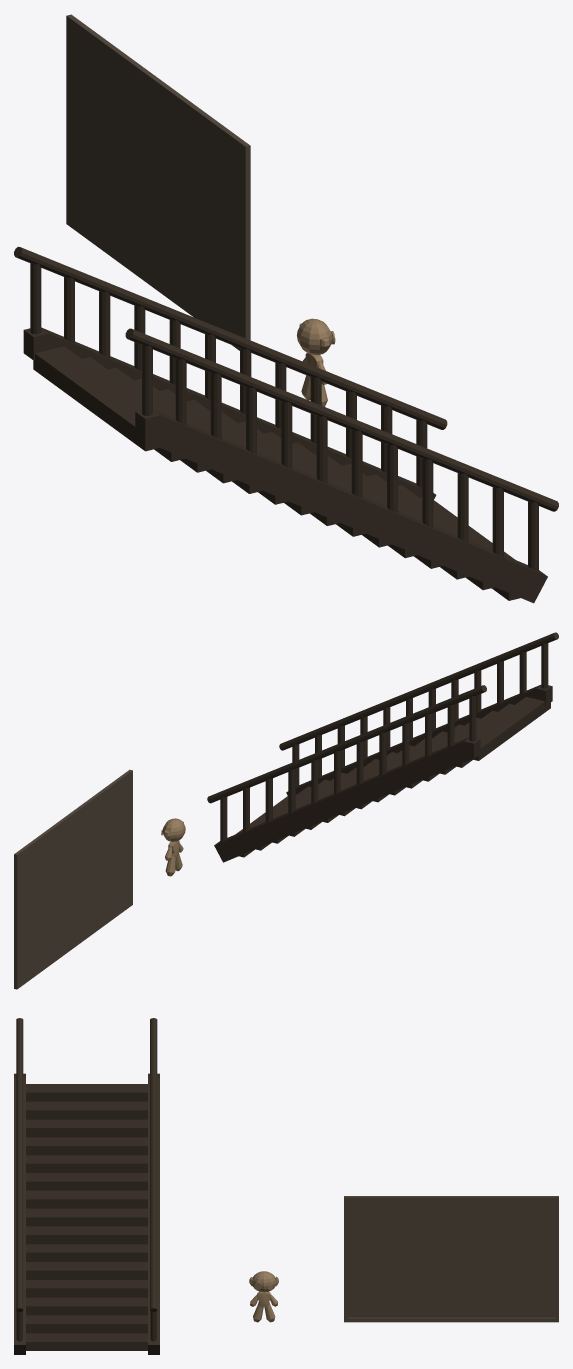
The model's file is Bungalow_UVReady.fbx.
The picture shows the model from 3 angles, top to bottom: view 1: azimuth 30°, elevation 25°; view 2: azimuth 150°, elevation 25°; view 3: azimuth 270°, elevation 25°; orthographic projection. The views are drawn at different scales.
Visible parts, largest first — view 1: Corkboard, pCube19, Basement_Stairs, pCube20, pCube17, pSphere1; view 2: Corkboard, pCube20, pCube19, Basement_Stairs, pCube17, pSphere1; view 3: Corkboard, Basement_Stairs, pCube19, pCube20, pCube14, pCube9, pCube5, pCube16, pCube4, pCube15, pCube17, pCube3 (+6 smaller).
Part boxes in pixels (bbox=[...]): Corkboard: bbox=[66, 14, 250, 350]; pCube19: bbox=[125, 328, 558, 603]; Basement_Stairs: bbox=[14, 247, 519, 600]; pCube20: bbox=[14, 246, 446, 473]; pCube17: bbox=[33, 346, 158, 450]; pSphere1: bbox=[297, 318, 332, 355]; Corkboard: bbox=[14, 769, 132, 989]; pCube20: bbox=[207, 685, 486, 862]; pCube19: bbox=[279, 632, 558, 795]; Basement_Stairs: bbox=[207, 685, 545, 857]; pCube17: bbox=[476, 697, 550, 758]; pSphere1: bbox=[162, 818, 185, 841]; Corkboard: bbox=[344, 1196, 558, 1322]; Basement_Stairs: bbox=[26, 1018, 159, 1354]; pCube19: bbox=[14, 1018, 25, 1354]; pCube20: bbox=[148, 1018, 159, 1354]; pCube14: bbox=[26, 1137, 147, 1155]; pCube9: bbox=[26, 1226, 147, 1244]; pCube5: bbox=[26, 1297, 147, 1315]; pCube16: bbox=[26, 1101, 147, 1119]; pCube4: bbox=[26, 1315, 147, 1333]; pCube15: bbox=[26, 1119, 147, 1137]; pCube17: bbox=[26, 1084, 147, 1101]; pCube3: bbox=[26, 1333, 147, 1350].
Size of the model in its own units: 16.42 by 13.41 by 30.01.
